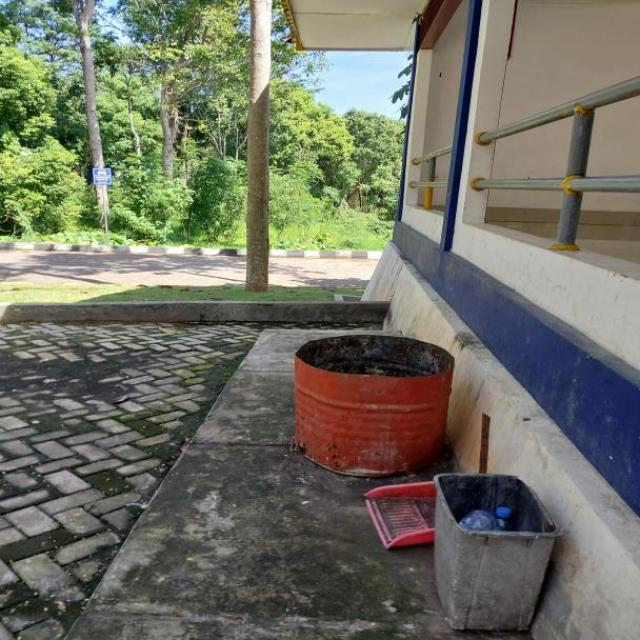dustbin ahead at: (288, 324, 458, 481), (437, 465, 560, 636)
tree ahead at: (237, 0, 277, 291)
